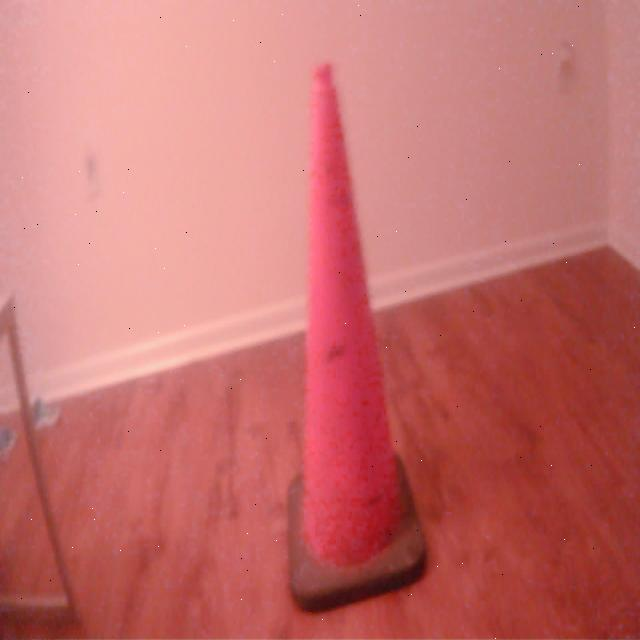traffic cone: (282, 56, 432, 624)
